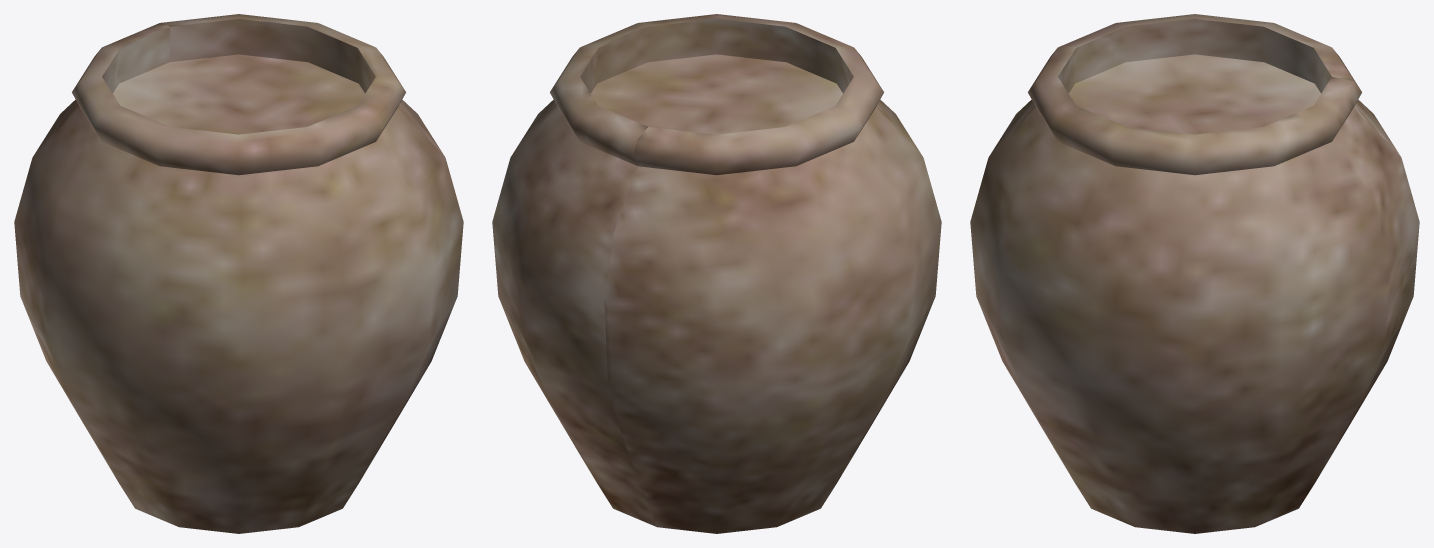
The model's file is Asset_01_clayPot_v001.obj.
The picture shows the model from 3 angles, left to right: view 1: azimuth 30°, elevation 25°; view 2: azimuth 150°, elevation 25°; view 3: azimuth 270°, elevation 25°; orthographic projection.
Parts seen in each view (by area): view 1: Clay_pot; view 2: Clay_pot; view 3: Clay_pot.
Part boxes in pixels (left/top/right/bottom): Clay_pot: left=14, top=14, right=463, bottom=533; Clay_pot: left=492, top=14, right=941, bottom=533; Clay_pot: left=970, top=14, right=1419, bottom=533.
Bounding box in the file's own units: 0.8958 × 0.894 × 0.8958.
